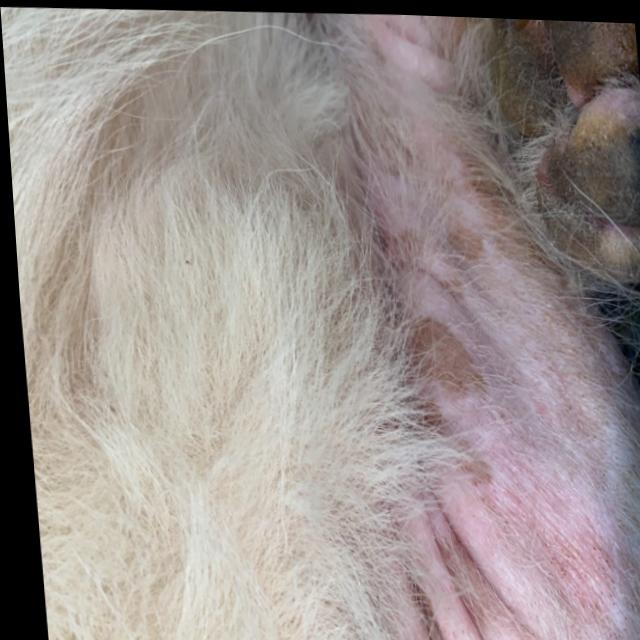demodicosis: (387, 111, 592, 603)
